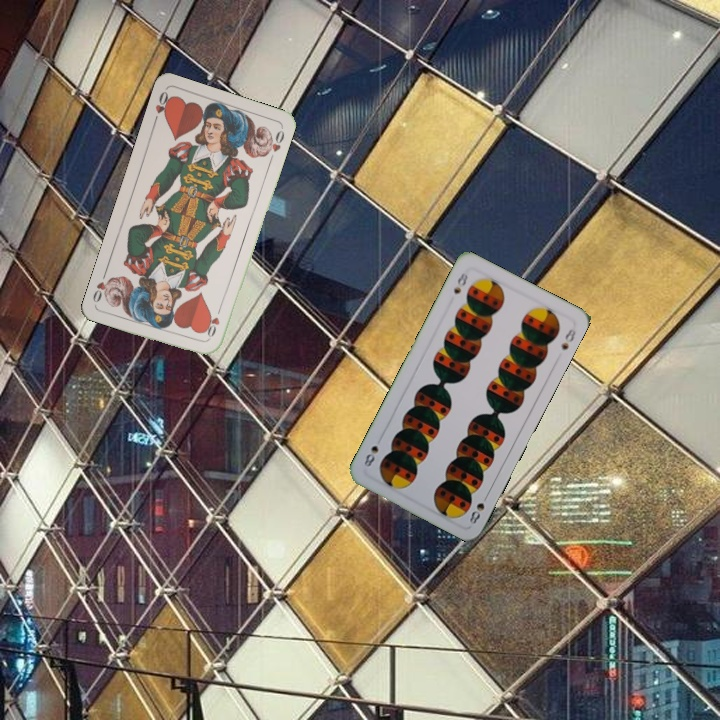HO: (149, 87, 174, 126), (203, 303, 224, 342)
S8: (465, 489, 491, 527), (449, 268, 470, 296)
